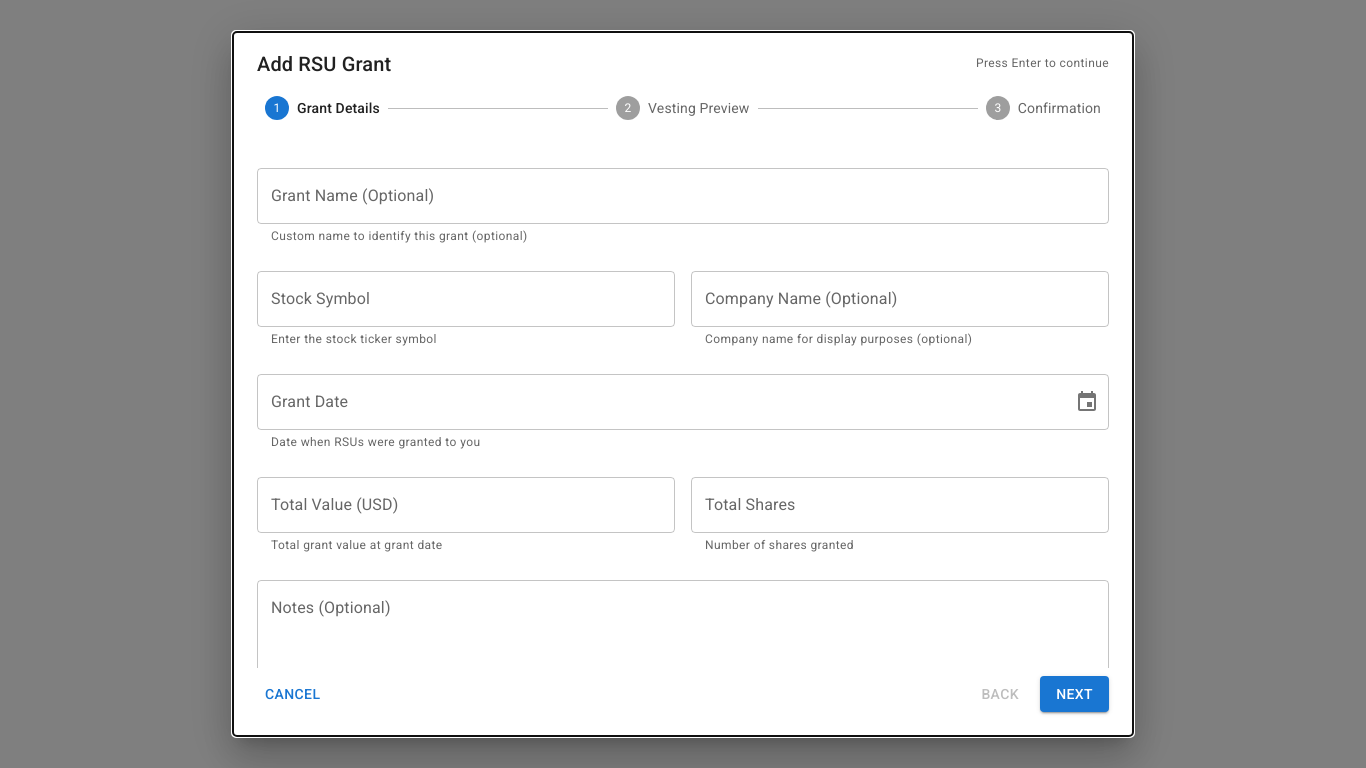
Test: AddGrantWizard › Form Validation › should show validation errors for empty required fields
This screenshot has width=1366, height=768.
Try to click next without filling required fields
Click the button "Next" at (1075, 694), box [1040, 676, 1109, 712]
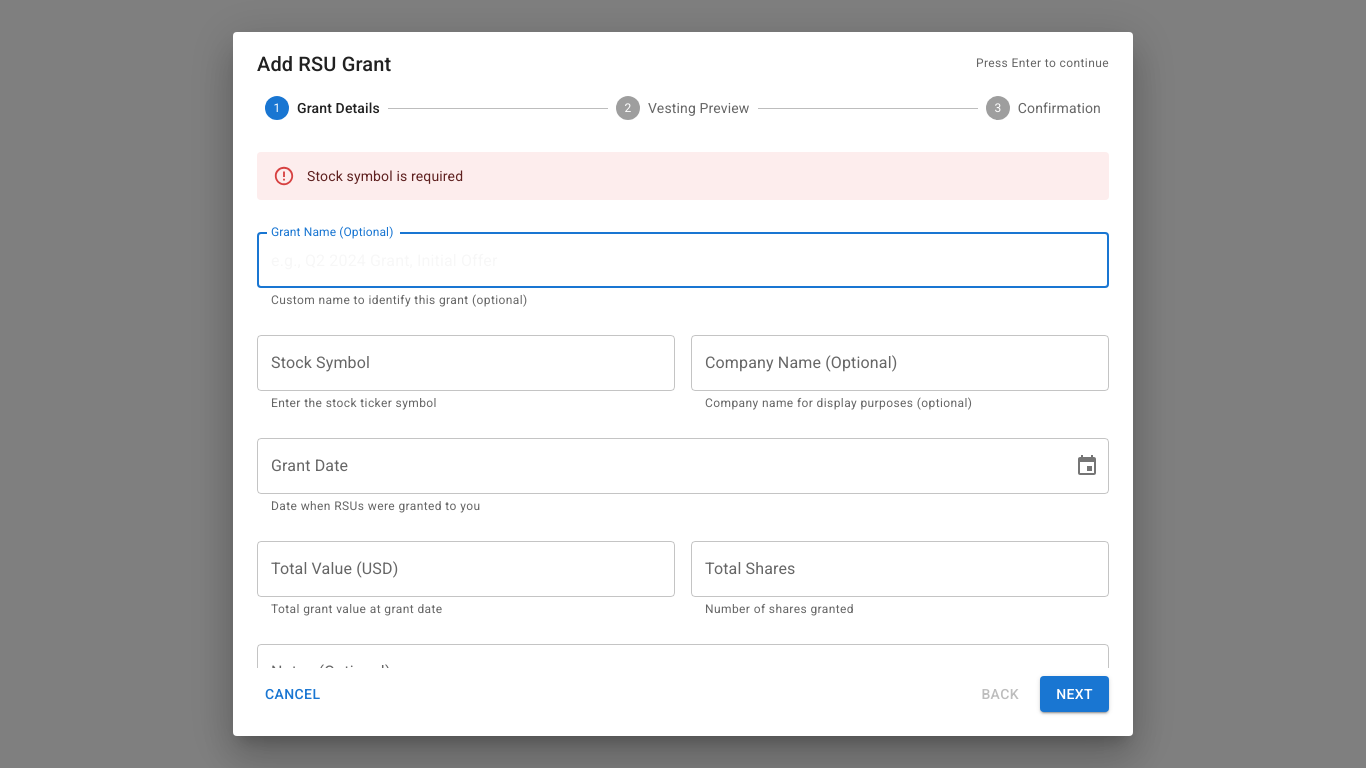
Expected: the text "Stock symbol is required" is shown, [307, 168, 463, 184]
